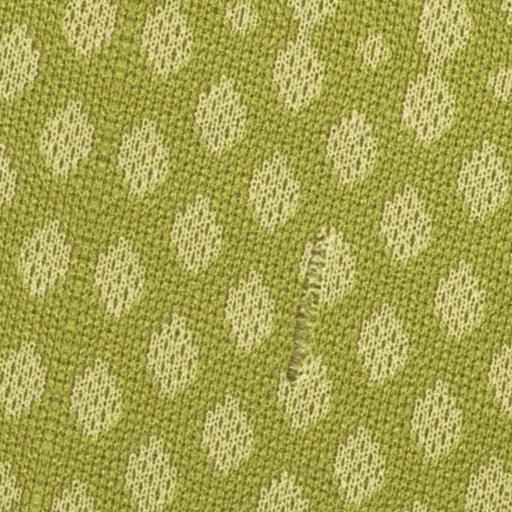slub: (278, 227, 333, 392)
